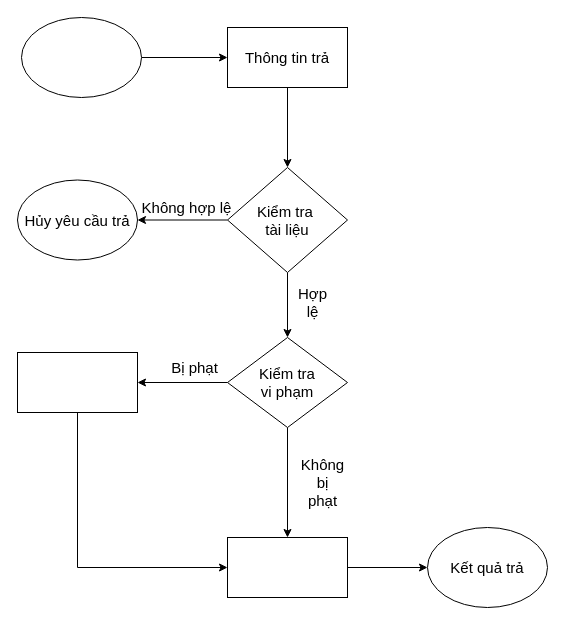
The diagram is 565 pixels wide and 625 high, and some of its shapes have lost their labels. Each missing label, with the centre of its shape:
"Cập nhật thông tin" belongs at point 287,567.
"Quản lý trả tài liệu" belongs at point 81,57.
"Xử lý vi phạm" belongs at point 77,382.
